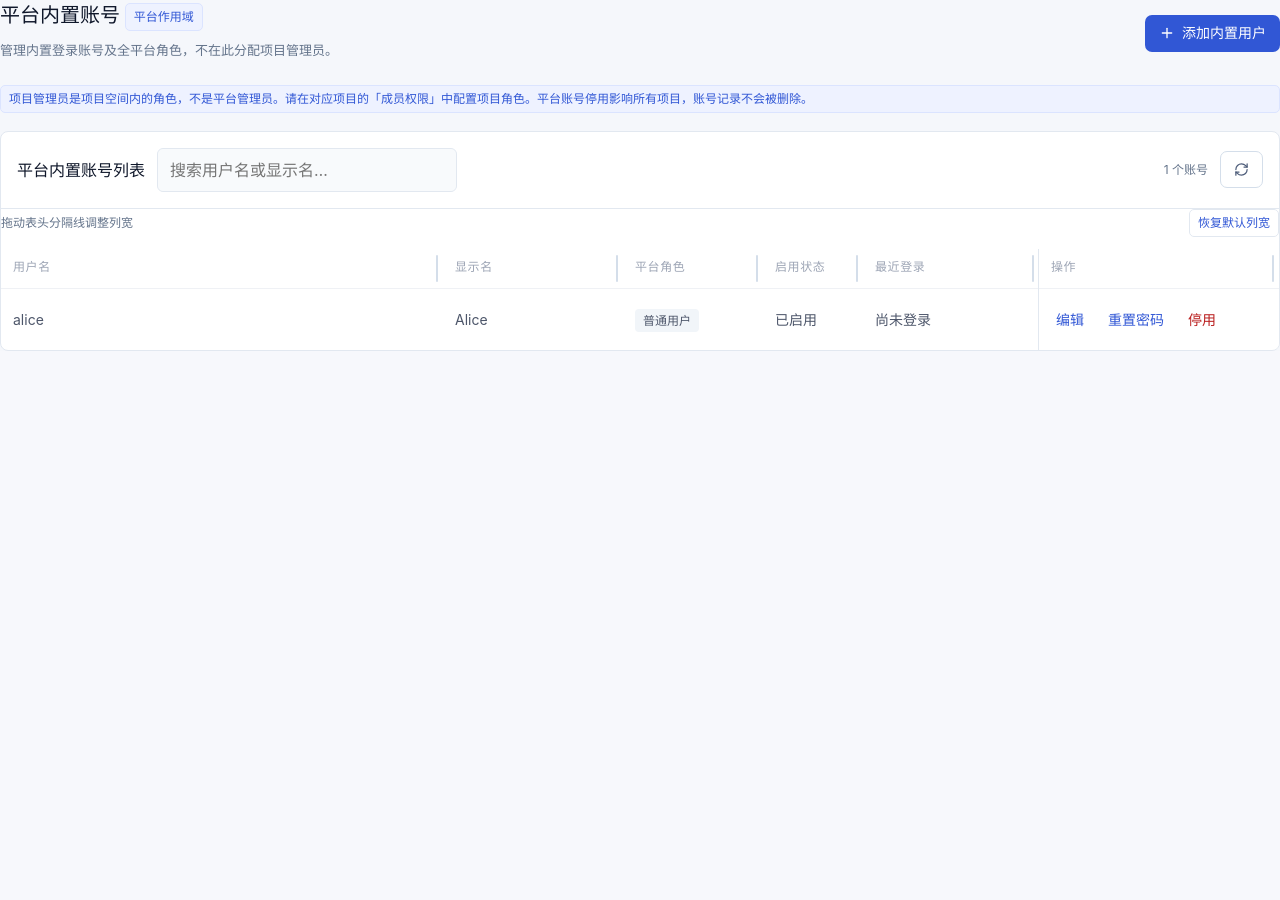
Test case: clears reset passwords on rejection and requires matching confirmation
Expected: the text "Alice" is shown, [443, 288, 623, 350]
Click the button with aria-label "重置 alice 的密码" at (1136, 319), box [1103, 304, 1169, 335]
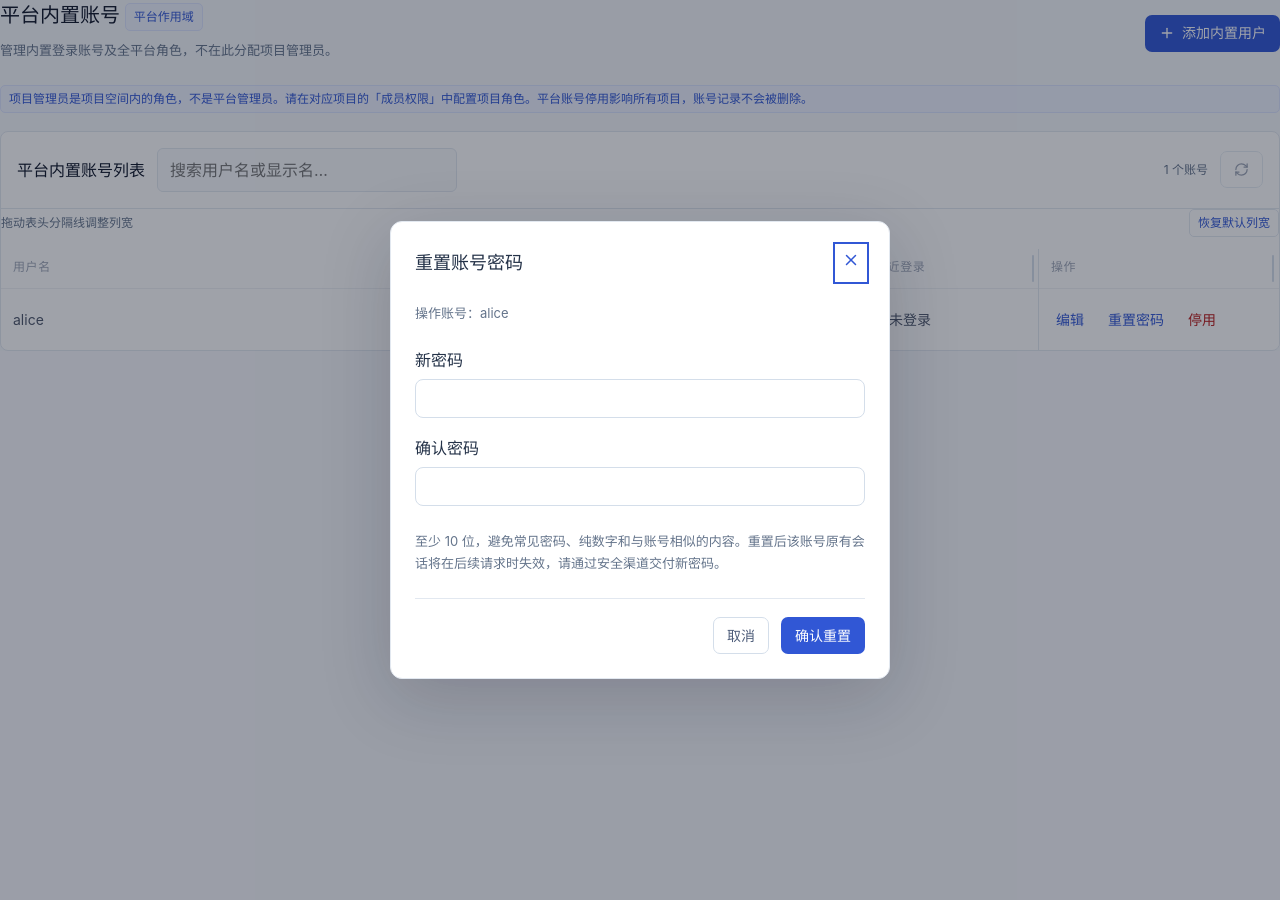
Type "disposable-password" into the password field labelled "新密码" at (640, 398), box [415, 379, 865, 418]
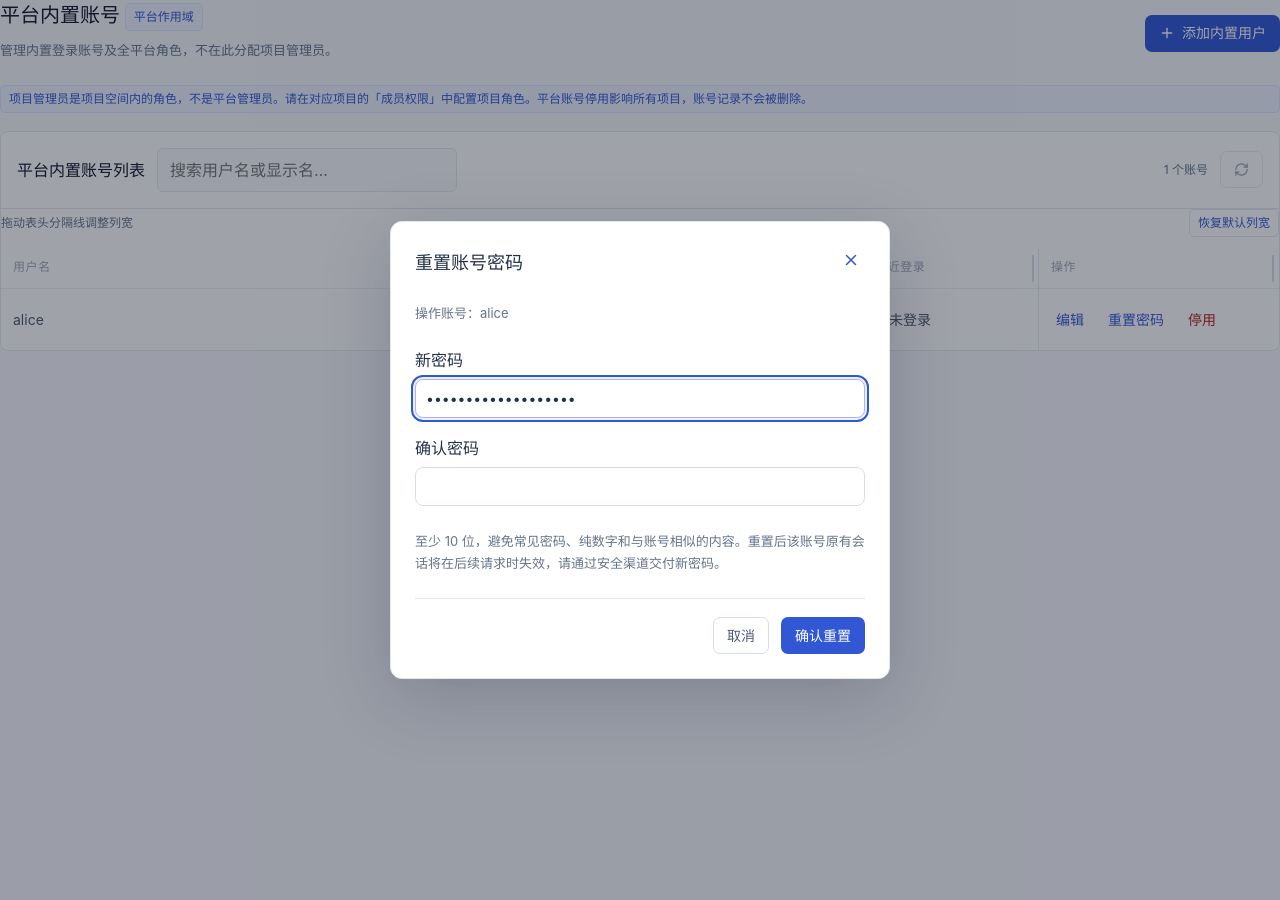
Type "different-password" into the password field labelled "确认密码" at (640, 486), box [415, 467, 865, 506]
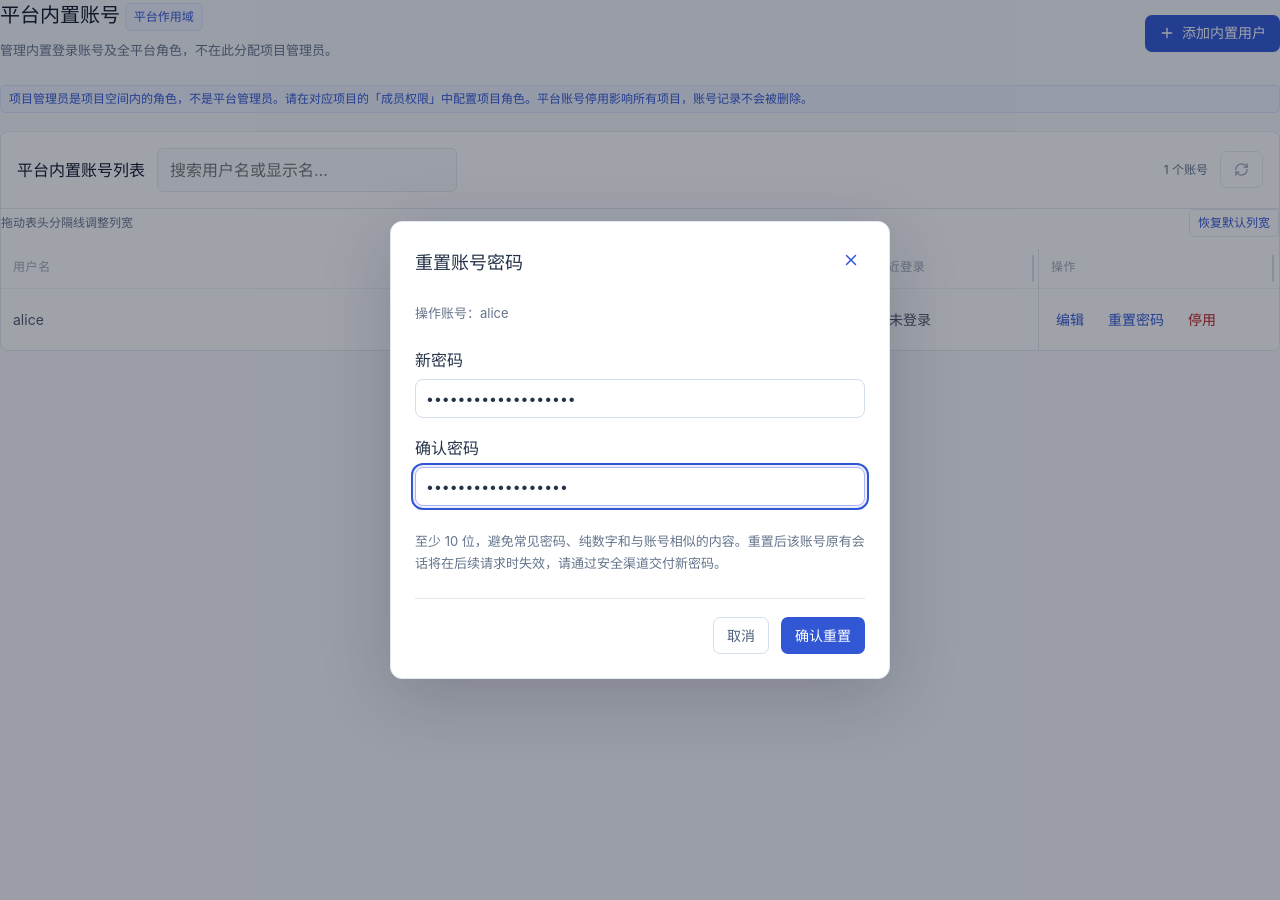
Click the button "确认重置" at (823, 636), box [781, 617, 865, 654]
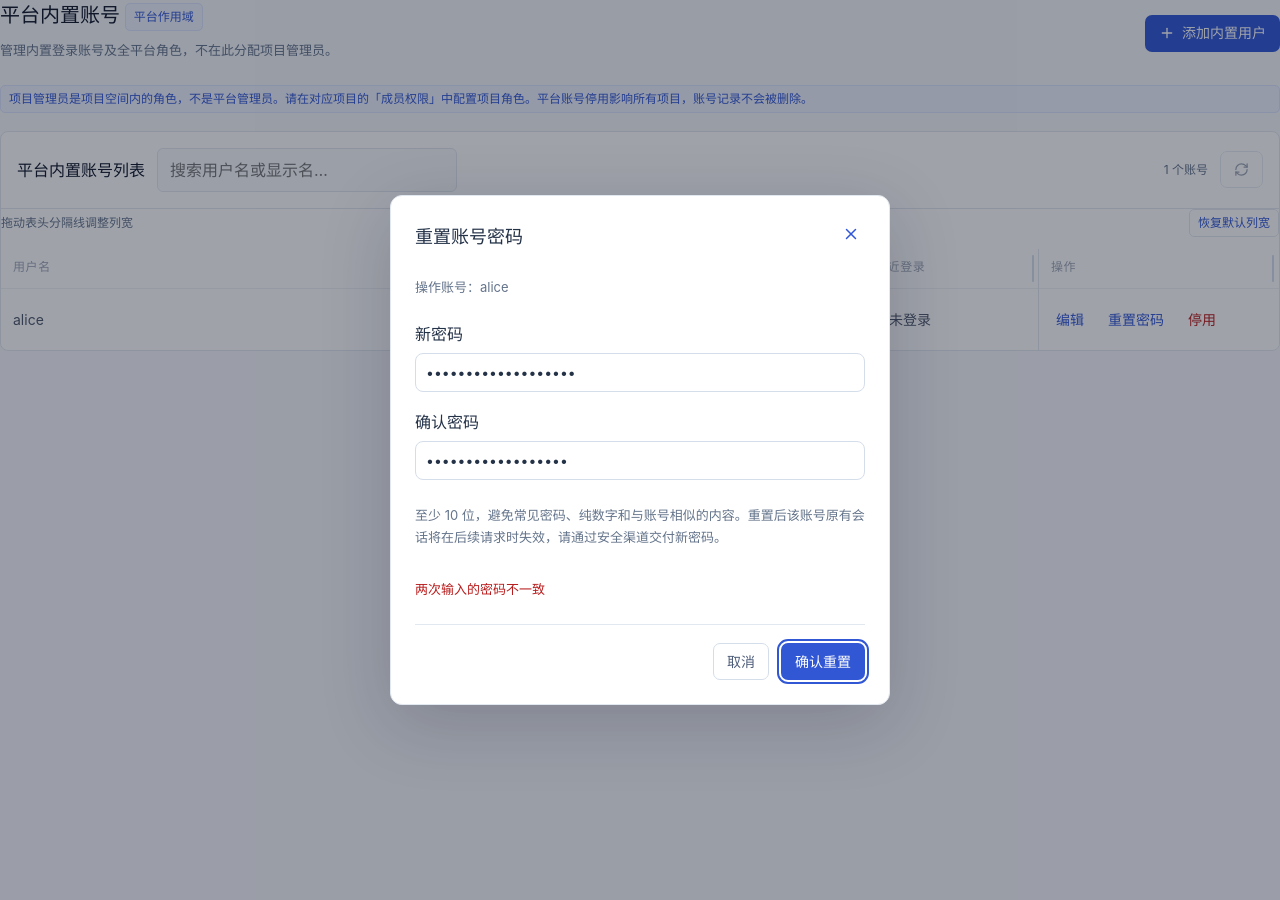
Expected: the message reads "两次输入的密码不一致", [415, 581, 545, 597]
Type "disposable-password" into the password field labelled "确认密码" at (640, 460), box [415, 441, 865, 480]
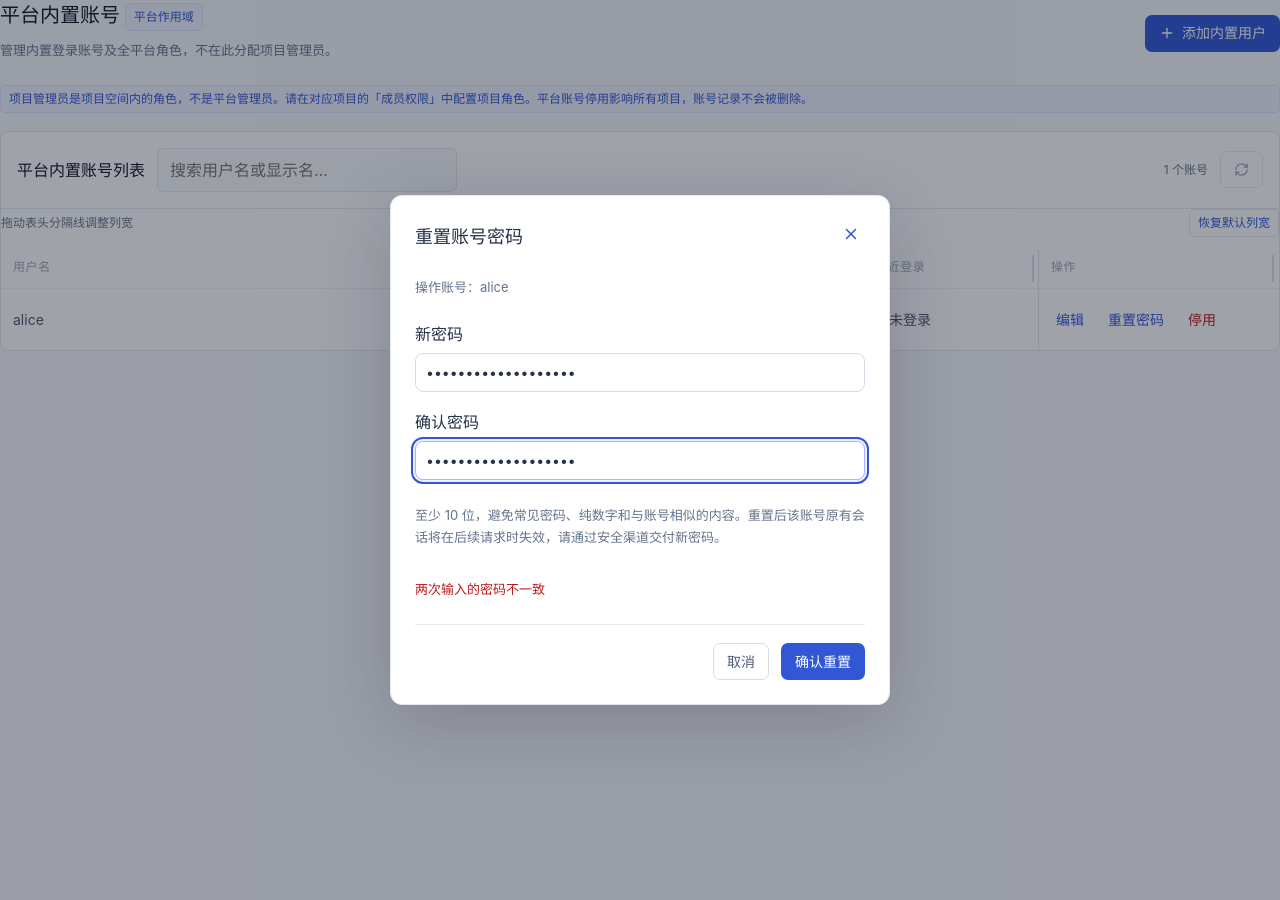
Click the button "确认重置" at (823, 662), box [781, 643, 865, 680]
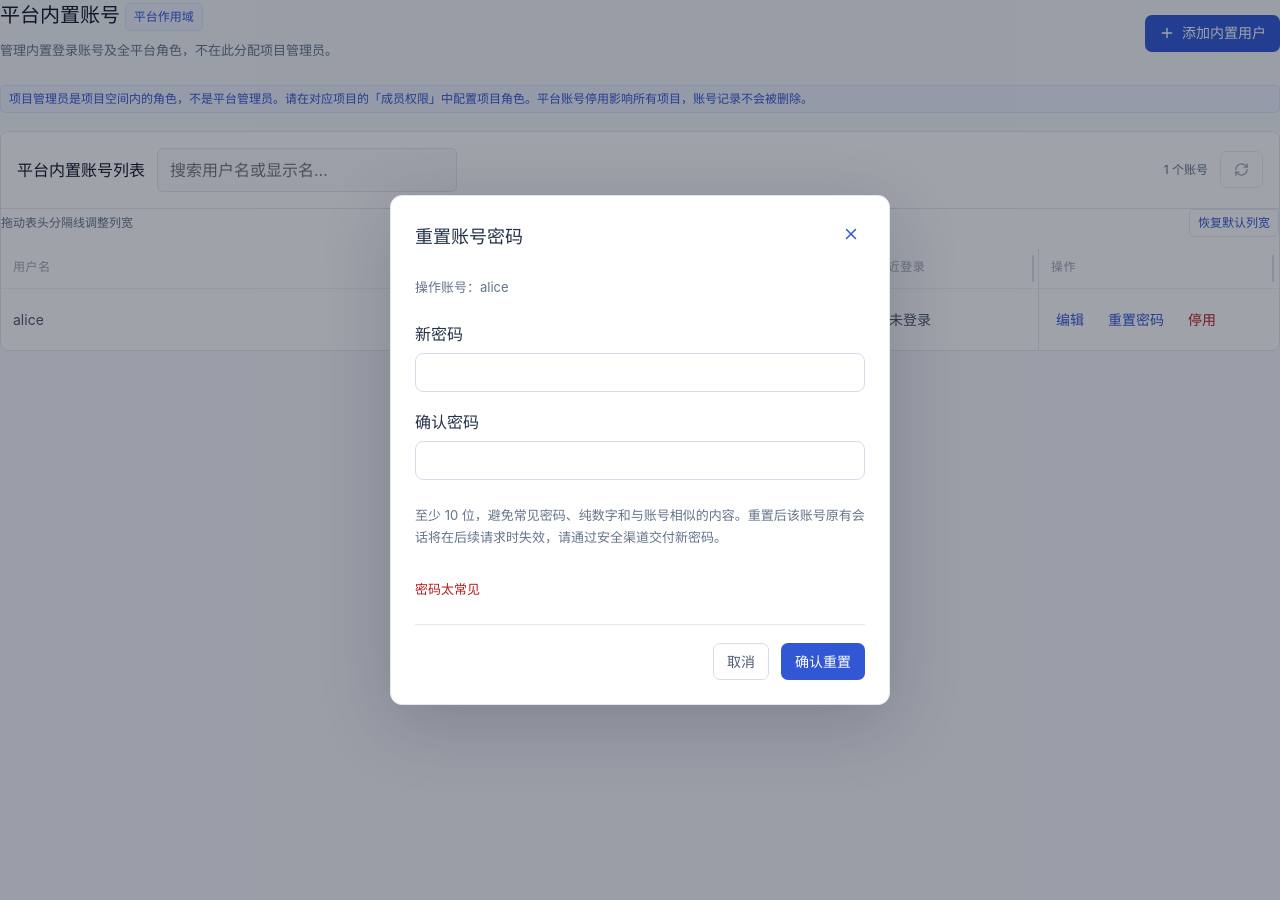
Expected: the message reads "密码太常见", [415, 581, 480, 597]
Expected: the password field labelled "新密码" is empty, [415, 353, 865, 392]
